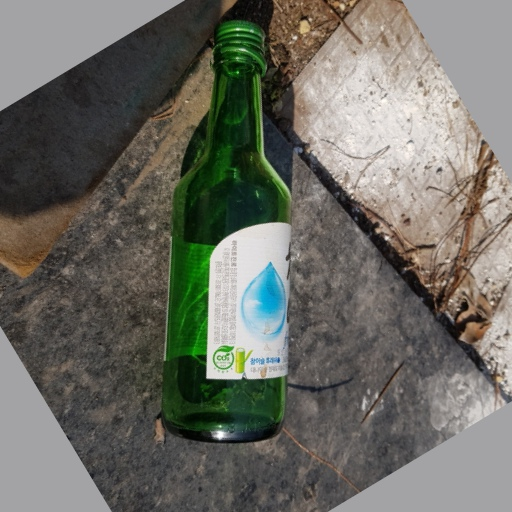Glass_0: (163, 20, 295, 449)
